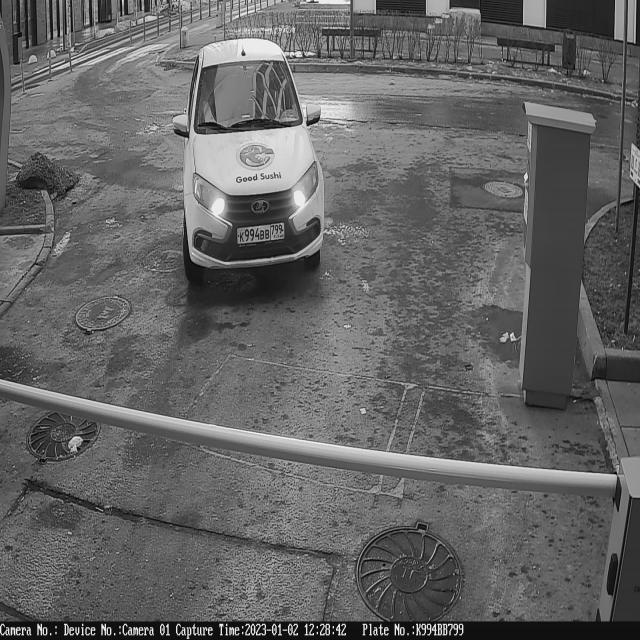car-plate-numbers: (237, 221, 288, 250)
